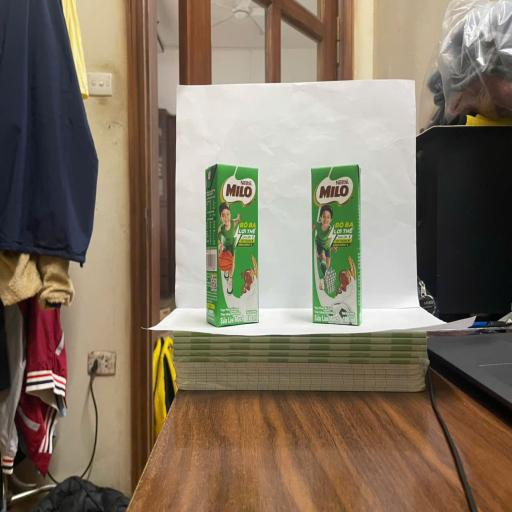milo: (206, 164, 258, 327), (312, 166, 362, 324)
